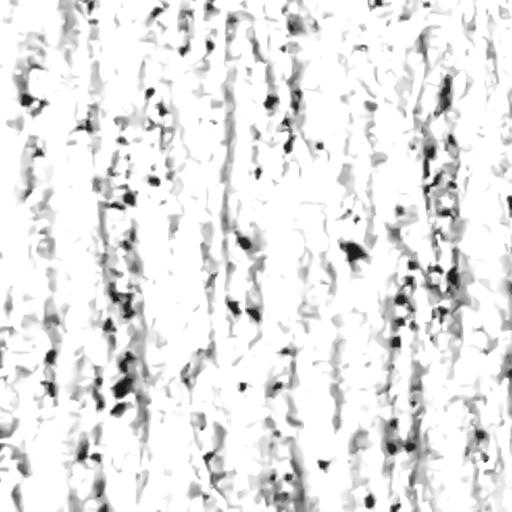egg: (114, 351, 136, 398), (339, 241, 368, 266), (435, 74, 452, 115), (112, 290, 134, 317), (113, 376, 132, 398), (424, 146, 433, 178), (226, 297, 241, 315), (291, 88, 302, 112), (446, 266, 457, 288), (111, 402, 125, 417), (264, 94, 278, 109), (77, 439, 87, 460), (283, 134, 294, 153), (42, 381, 55, 397), (237, 235, 251, 249), (246, 307, 260, 321), (77, 118, 92, 131), (123, 190, 135, 205), (20, 93, 33, 106), (364, 493, 375, 508), (318, 459, 330, 472), (156, 102, 167, 116), (424, 145, 434, 159), (45, 349, 54, 364), (395, 294, 407, 305), (390, 336, 400, 347), (506, 195, 511, 217), (145, 87, 154, 98)
